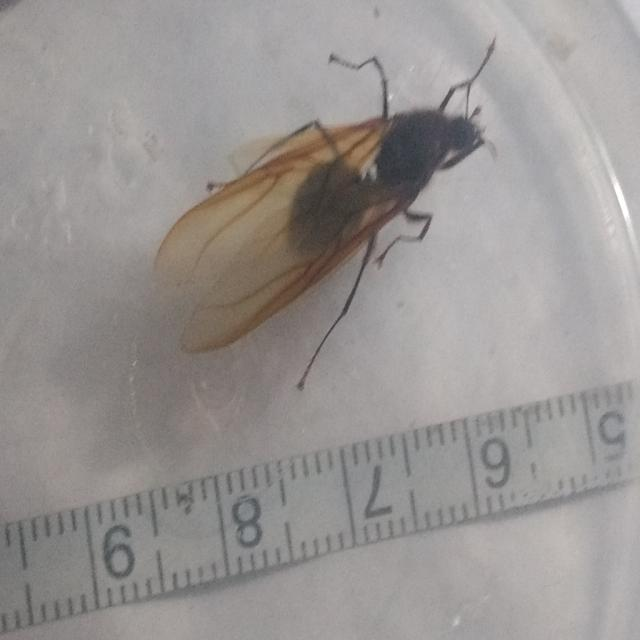Alive-Male-Alate: (153, 34, 498, 391)
